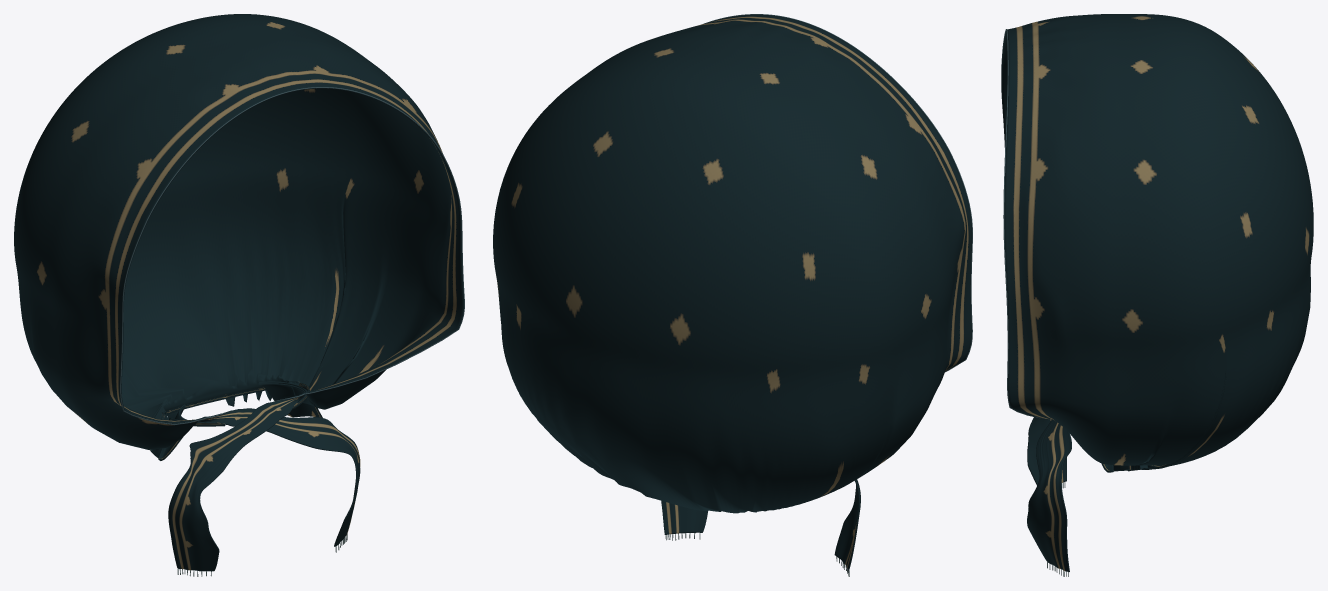
File: Feminine-bob-strappy-pashmina250-headgear.glb
3 renders of one model, left to right at view 1: azimuth 30°, elevation 25°; view 2: azimuth 150°, elevation 25°; view 3: azimuth 270°, elevation 25°, orthographic. The views are drawn at different scales.
Parts seen in each view (by area): view 1: 226 headgear / Headwear / continuous woven pashmina239, 226 headgear / Headwear / face edge239; view 2: 226 headgear / Headwear / continuous woven pashmina239, 226 headgear / Headwear / face edge239; view 3: 226 headgear / Headwear / continuous woven pashmina239, 226 headgear / Headwear / face edge239.
Part boxes in pixels (<box>): 226 headgear / Headwear / continuous woven pashmina239: <box>14,14,463,571</box>; 226 headgear / Headwear / face edge239: <box>120,87,464,424</box>; 226 headgear / Headwear / continuous woven pashmina239: <box>493,14,972,570</box>; 226 headgear / Headwear / face edge239: <box>702,14,972,372</box>; 226 headgear / Headwear / continuous woven pashmina239: <box>1001,14,1313,571</box>; 226 headgear / Headwear / face edge239: <box>1001,29,1043,418</box>.
Size of the model in its own units: 1.1 by 1.39 by 0.7846.
Materials: 3 (1 with a texture image).
